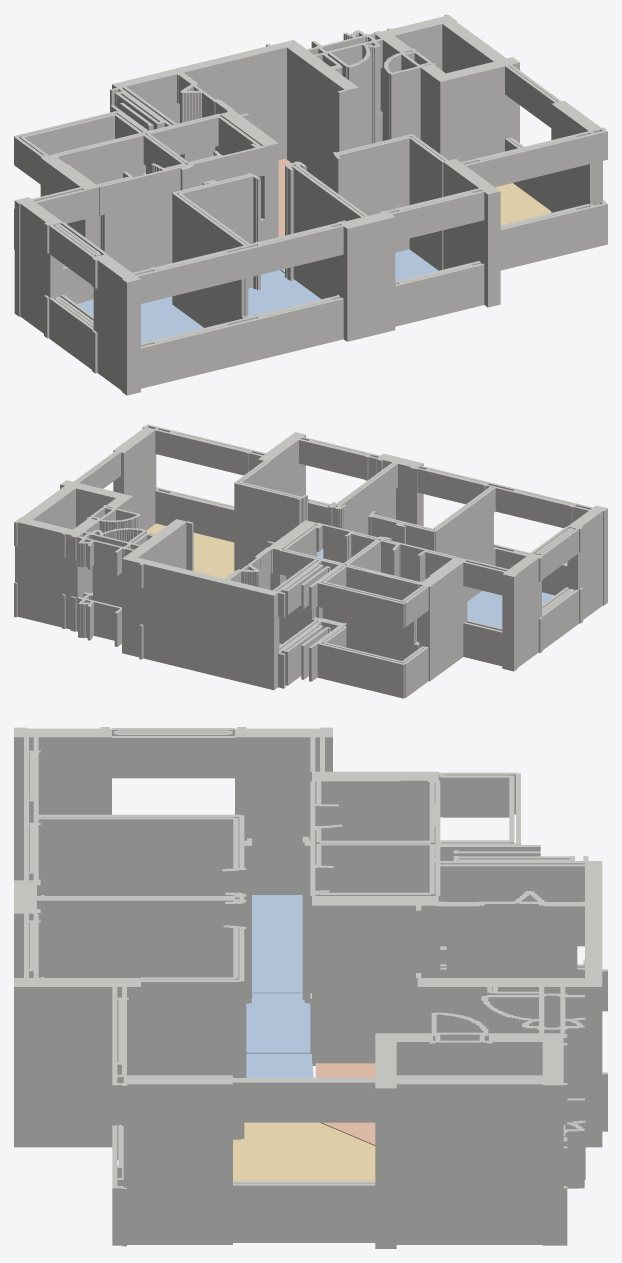
3 renders of one model, top to bottom at view 1: azimuth 30°, elevation 25°; view 2: azimuth 150°, elevation 25°; view 3: azimuth 270°, elevation 25°, orthographic. The views are drawn at different scales.
Parts seen in each view (by area): view 1: walls, room:bedroom:6, room:bedroom:2, room:living:7, room:bedroom:8, room:kitchen:3; view 2: walls, room:living:7, room:bedroom:2; view 3: walls, room:living:7, room:bedroom:2, room:bedroom:6, room:bedroom:8, room:kitchen:3.
Part boxes in pixels (x1,y1,x2,y2): walls: [14, 14, 607, 395]; room:bedroom:6: [248, 270, 320, 316]; room:bedroom:2: [77, 296, 203, 343]; room:living:7: [495, 183, 551, 224]; room:bedroom:8: [280, 249, 438, 280]; room:kitchen:3: [278, 158, 291, 236]; walls: [14, 424, 607, 698]; room:living:7: [147, 523, 234, 578]; room:bedroom:2: [467, 590, 554, 628]; walls: [14, 727, 607, 1248]; room:living:7: [233, 1122, 375, 1181]; room:bedroom:2: [40, 895, 302, 993]; room:bedroom:6: [40, 977, 310, 1053]; room:bedroom:8: [246, 1053, 313, 1077]; room:kitchen:3: [315, 1063, 375, 1145].
Bounding box in the file's own units: 13.52 × 2.8 × 9.39.
